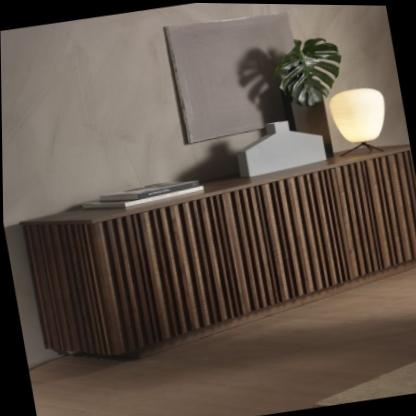Sideboard: (20, 146, 416, 358)
Wooden floor: (27, 258, 416, 416)
